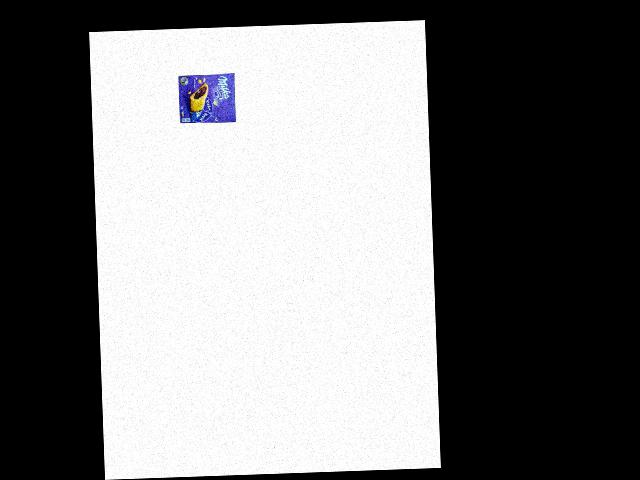chocolate: (174, 70, 239, 126)
